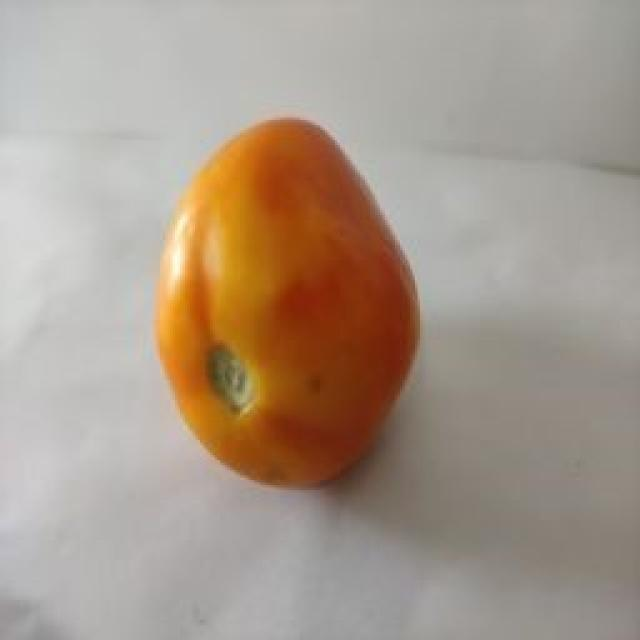unripe: (252, 198, 442, 488)
